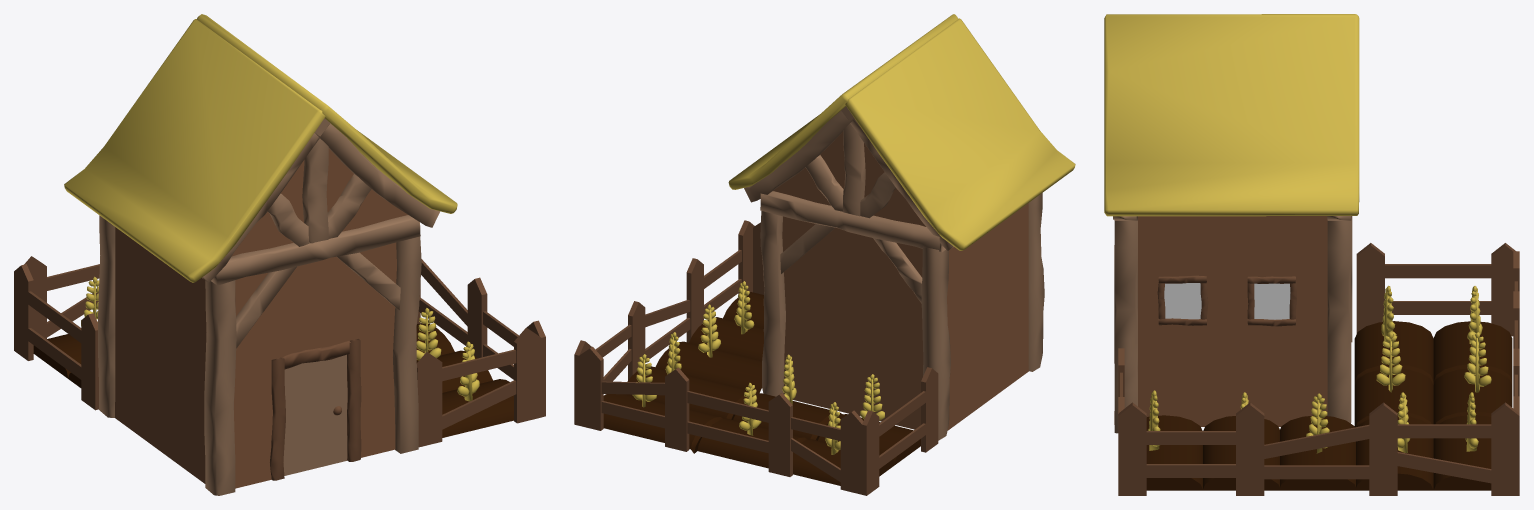
File: WheatFarm.fbx
3 renders of one model, left to right at view 1: azimuth 30°, elevation 25°; view 2: azimuth 150°, elevation 25°; view 3: azimuth 270°, elevation 25°, orthographic. The views are drawn at different scales.
Parts seen in each view (by area): view 1: Roof2, Wall_front, Wall_left, Door, HousePillar, HousePillar2, HousePillar5, Roof, HousePillar.001, HousePillar2.003, Cube.001, HousePillar2.005 (+26 smaller); view 2: Roof2, Wall_back, Wall_left, Cylinder.004, HousePillar.001, HousePillar2.008, HousePillar5.001, Cylinder.003, Roof, Cylinder.002, HousePillar, HousePillar2.009 (+32 smaller); view 3: Roof, Wall_right, Cylinder.004, Cylinder.003, HousePillar2.008, HousePillar2, Cylinder.002, Cube.003, Cube.004, Cube.005, Cube.002, Cylinder (+19 smaller).
Part boxes in pixels (box(x1,y1,x2,y2)): Roof2: box(64, 19, 325, 282); Wall_front: box(231, 148, 407, 488); Wall_left: box(115, 227, 206, 483); Door: box(283, 354, 347, 475); HousePillar: box(204, 280, 236, 495); HousePillar2: box(393, 236, 421, 453); HousePillar5: box(211, 215, 420, 285); Roof: box(197, 14, 457, 213); HousePillar.001: box(98, 215, 115, 417); HousePillar2.003: box(316, 123, 439, 227); Cube.001: box(514, 327, 541, 423); HousePillar2.005: box(302, 138, 328, 243); Roof2: box(845, 18, 1075, 250); Wall_back: box(773, 131, 925, 429); Wall_left: box(947, 203, 1028, 430); Cylinder.004: box(603, 394, 894, 485); HousePillar.001: box(921, 246, 950, 440); HousePillar2.008: box(760, 211, 785, 396); HousePillar5.001: box(760, 191, 945, 252); Cylinder.003: box(627, 366, 920, 464); Roof: box(728, 14, 958, 189); Cylinder.002: box(655, 341, 761, 393); HousePillar: box(1028, 193, 1044, 371); HousePillar2.009: box(744, 111, 853, 202); Roof: box(1104, 14, 1359, 216); Wall_right: box(1138, 216, 1327, 426); Cylinder.004: box(1433, 321, 1512, 490); Cylinder.003: box(1354, 321, 1433, 490); HousePillar2.008: box(1327, 220, 1351, 423); HousePillar2: box(1114, 220, 1137, 433); Cylinder.002: box(1280, 415, 1355, 490); Cube.003: box(1236, 402, 1264, 495); Cube.004: box(1369, 402, 1397, 495); Cube.005: box(1491, 402, 1519, 495); Cube.002: box(1118, 402, 1146, 495); Cylinder: box(1146, 415, 1203, 490).
Bounding box in the file's own units: 312 × 307 × 308.
